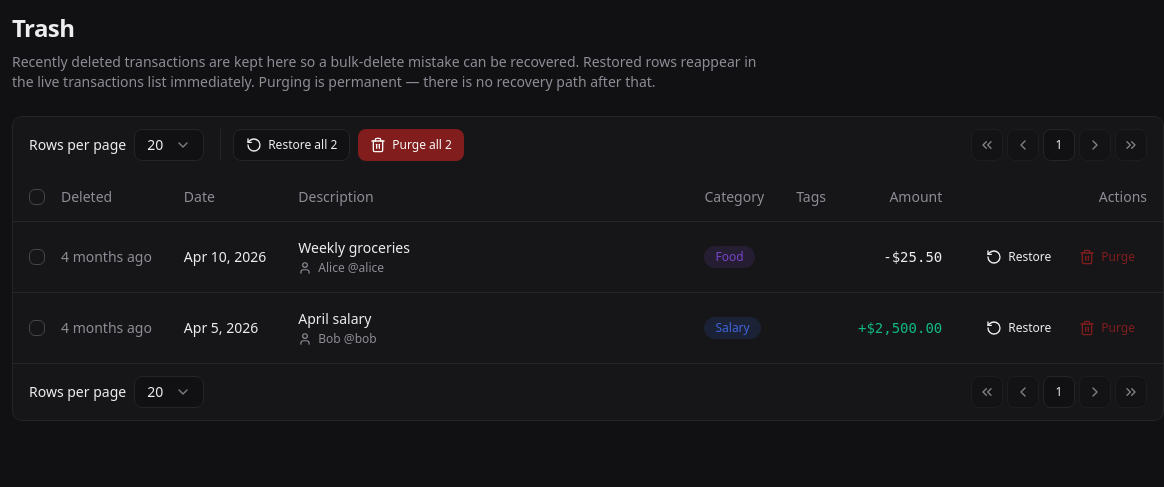
Scenario: Trash › as admin › "Clear selection" empties the selection set
This screenshot has width=1164, height=487.
Expected: the text "Weekly groceries" is shown, left=298, top=238, right=410, bottom=256
Click the checkbox named "select all on this page": (37, 197) left=29, top=189, right=45, bottom=205
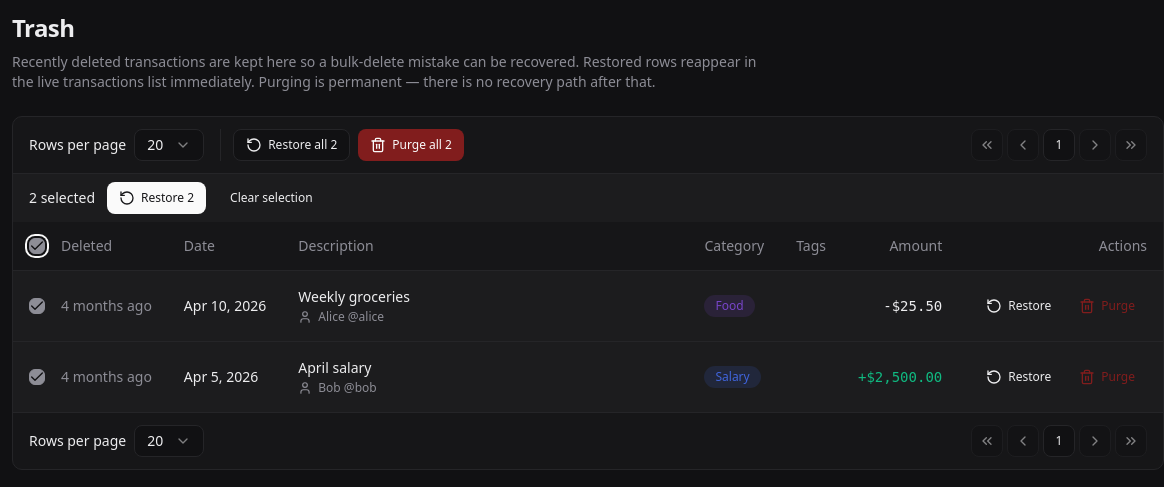
Expected: the text "2 selected" is shown, left=29, top=188, right=95, bottom=208
Click the button "Clear selection": (271, 198) left=218, top=182, right=325, bottom=214
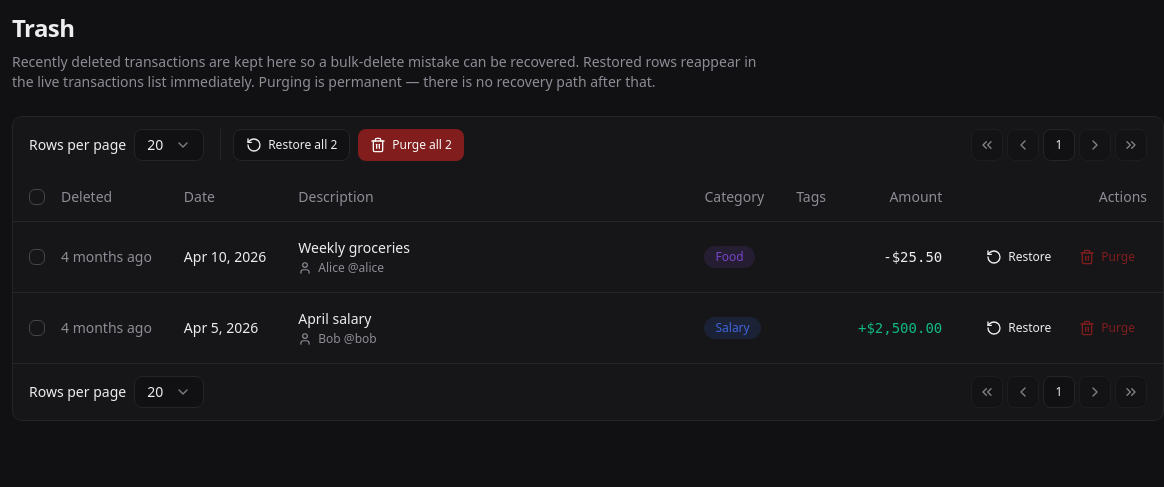
Expected: the text "2 selected" is gone
